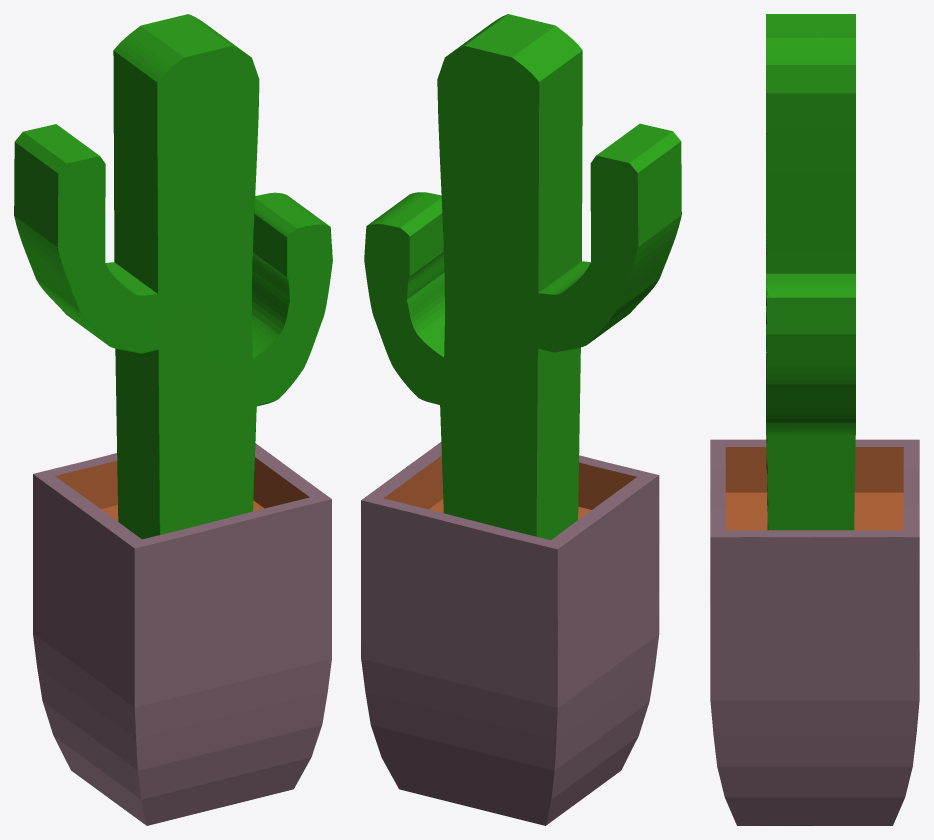
Rendered from Cactus.fbx.
The picture shows the model from 3 angles, left to right: view 1: azimuth 30°, elevation 25°; view 2: azimuth 150°, elevation 25°; view 3: azimuth 270°, elevation 25°; orthographic projection. The views are drawn at different scales.
Visible parts, largest first — view 1: Cactus(Mapeado)/texturizado); view 2: Cactus(Mapeado)/texturizado); view 3: Cactus(Mapeado)/texturizado).
Part boxes in pixels (box(x1,y1,x2,y2)): Cactus(Mapeado)/texturizado): box(14, 14, 332, 825); Cactus(Mapeado)/texturizado): box(361, 14, 681, 825); Cactus(Mapeado)/texturizado): box(710, 14, 919, 825).
Bounding box in the file's own units: 271 × 701 × 174.
